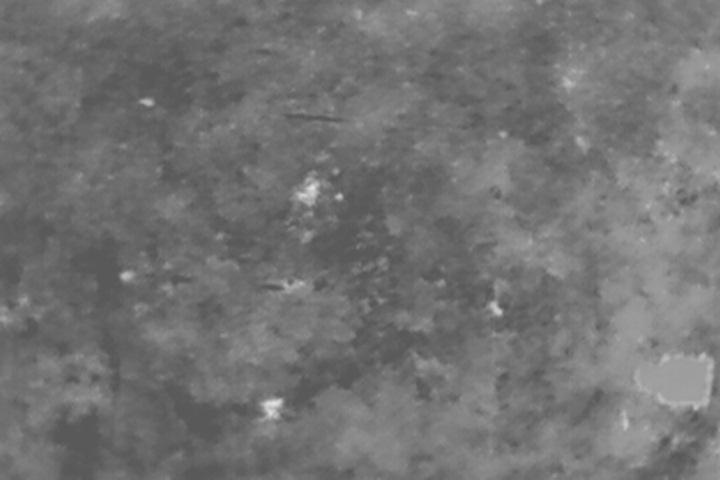landmine: (297, 169, 324, 209)
